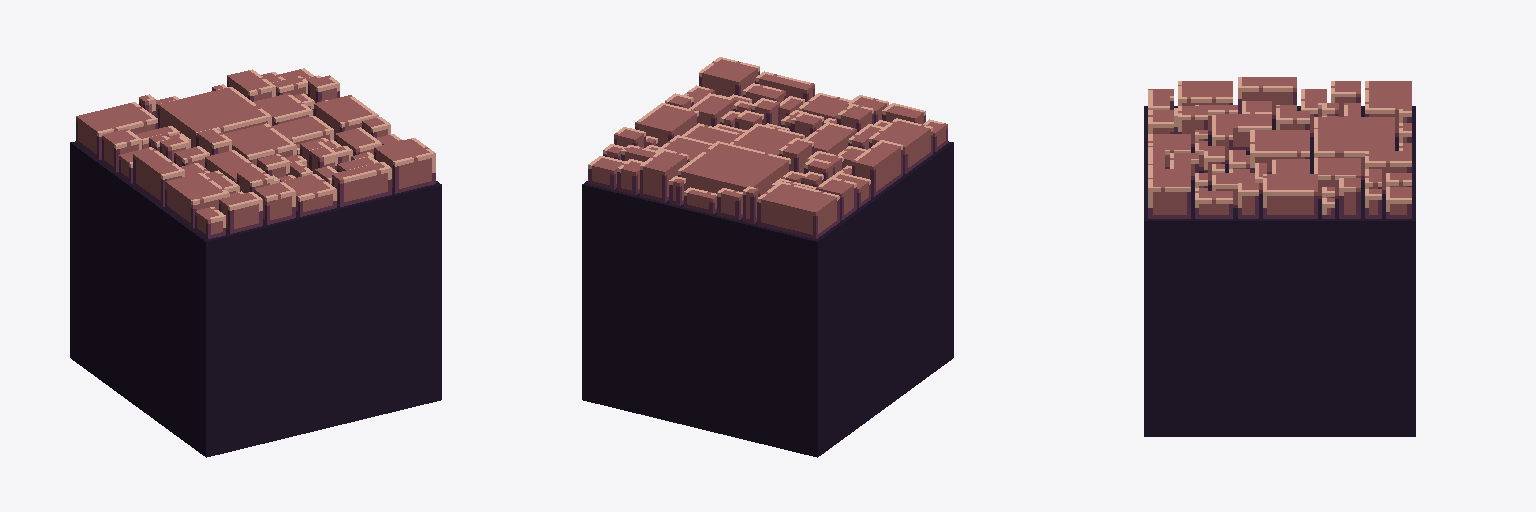
3 renders of one model, left to right at view 1: azimuth 30°, elevation 25°; view 2: azimuth 150°, elevation 25°; view 3: azimuth 270°, elevation 25°, orthographic.
Parts seen in each view (by area): view 1: object 1; view 2: object 1; view 3: object 1.
Boxes of the visible parts, box(x1,y1,x2,y2) form: object 1: box(70, 68, 441, 457); object 1: box(582, 57, 953, 457); object 1: box(1144, 77, 1415, 436).
Size of the model in its own units: 6.4 by 6.4 by 6.4.
Materials: 1 (1 with a texture image).